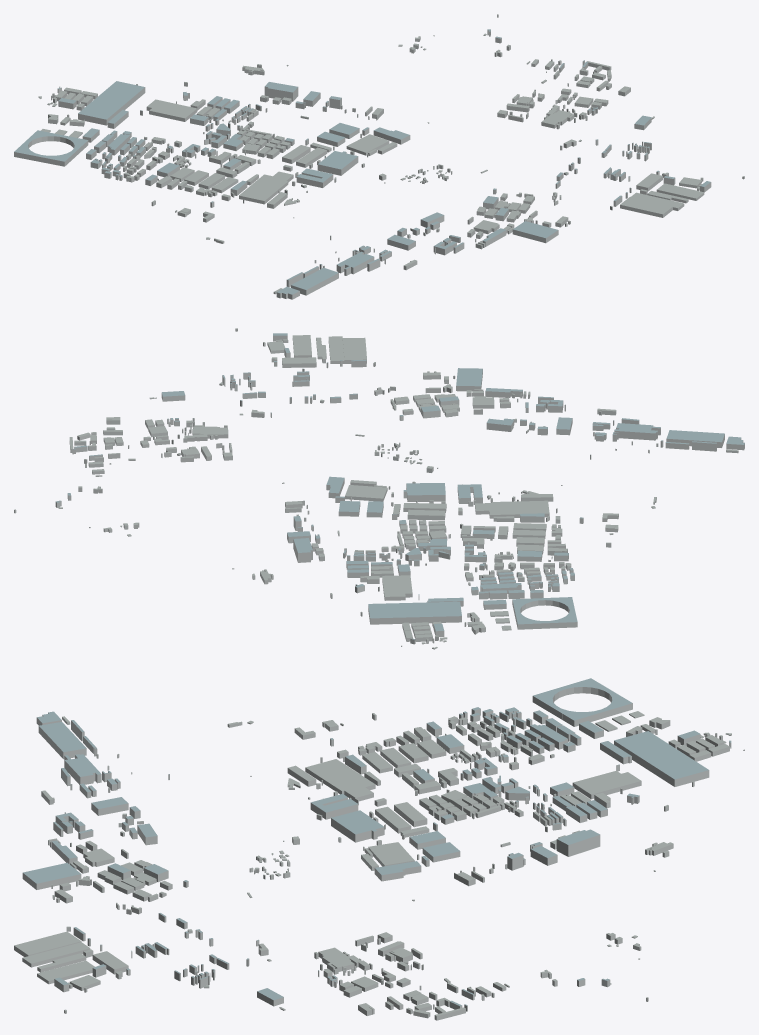
The model's file is far.glb.
3 views of the same model, one above another, from view 1: azimuth 30°, elevation 25°; view 2: azimuth 150°, elevation 25°; view 3: azimuth 270°, elevation 25° (orthographic). The views are drawn at different scales.
Bounding box in the file's own units: 2330 × 38.64 × 2141.
